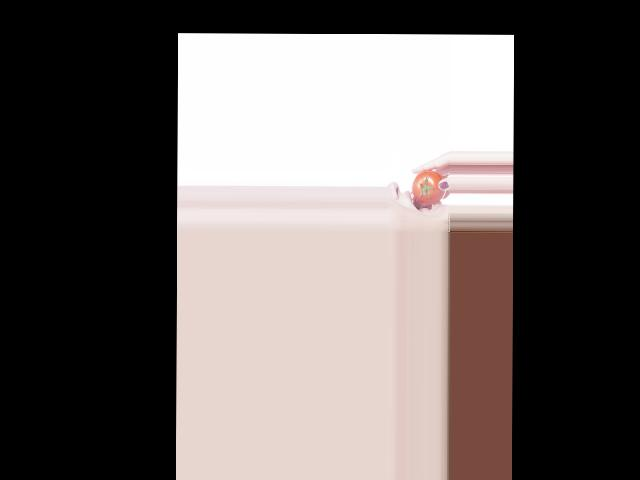tomato: (412, 169, 446, 204)
